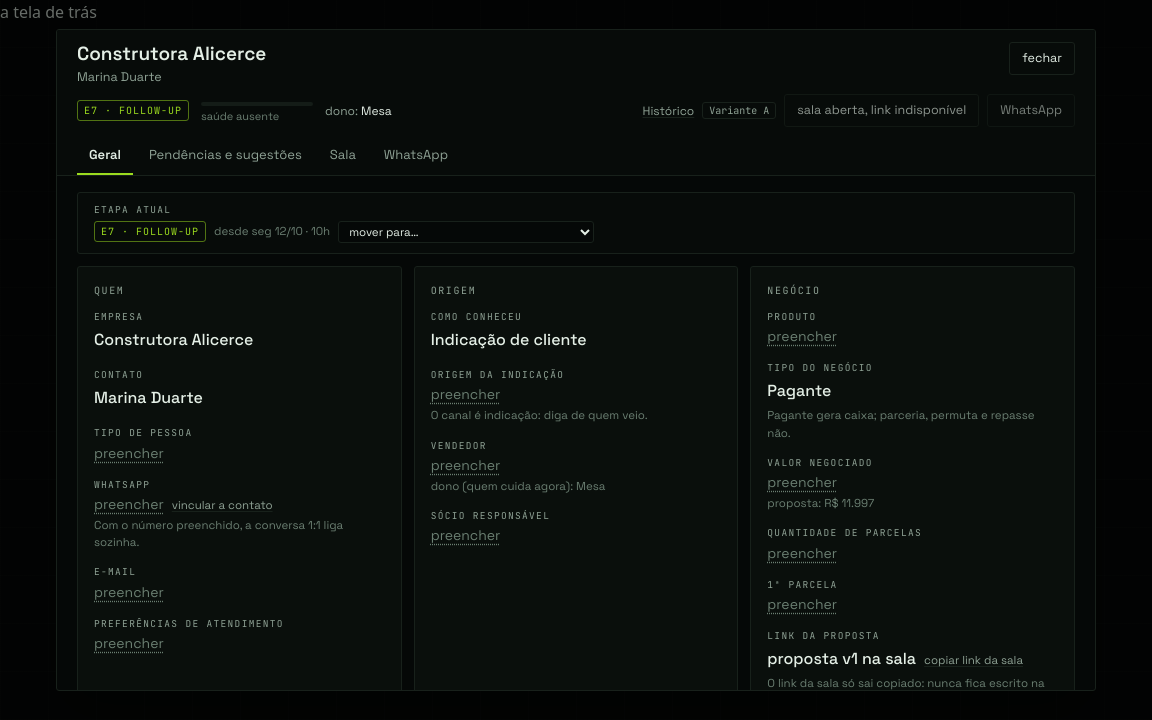
a aba Geral (variante A) › texto: "preencher" abre o campo, Enter salva pelo PATCH da ficha e o valor aparece na hora; Esc desfaz sem gravar
Click the button with test id "ficha-valor-preferenciasDeAtendimento".
click(129, 643)  # box x1=94 y1=633 x2=164 y2=654
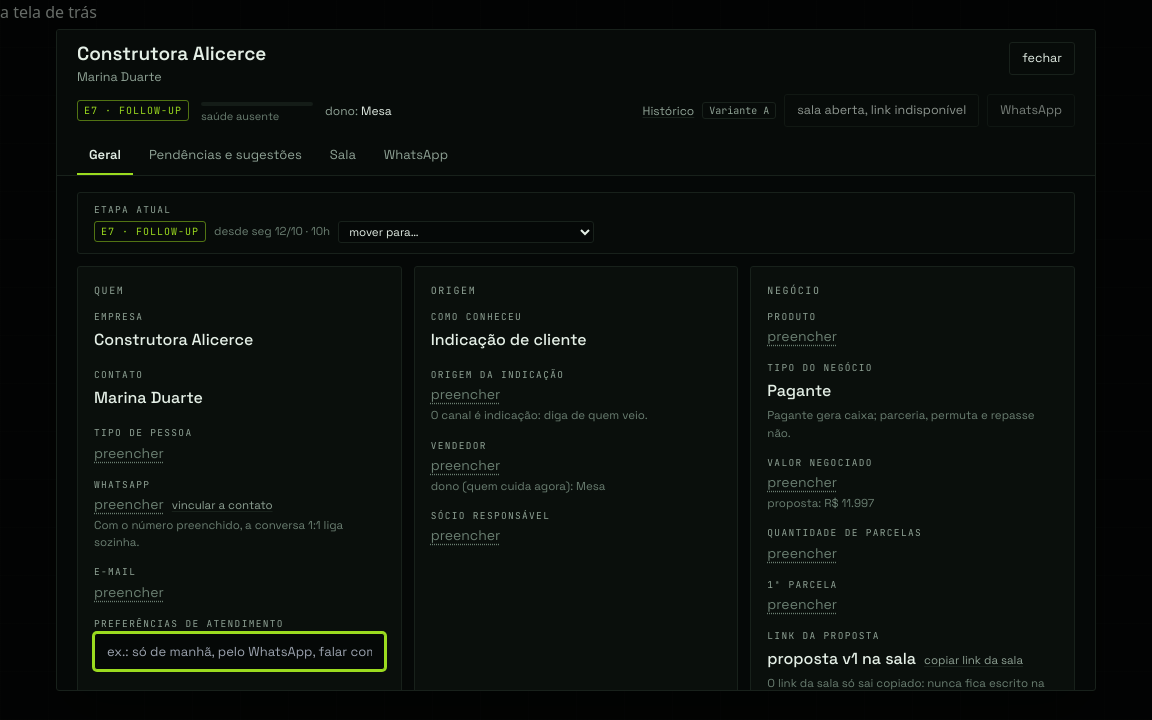
Type "só de manhã" into the field with test id "ficha-editor-preferenciasDeAtendimento".
click(239, 652); type("só de manhã")  # box x1=94 y1=633 x2=385 y2=670
Then press Enter
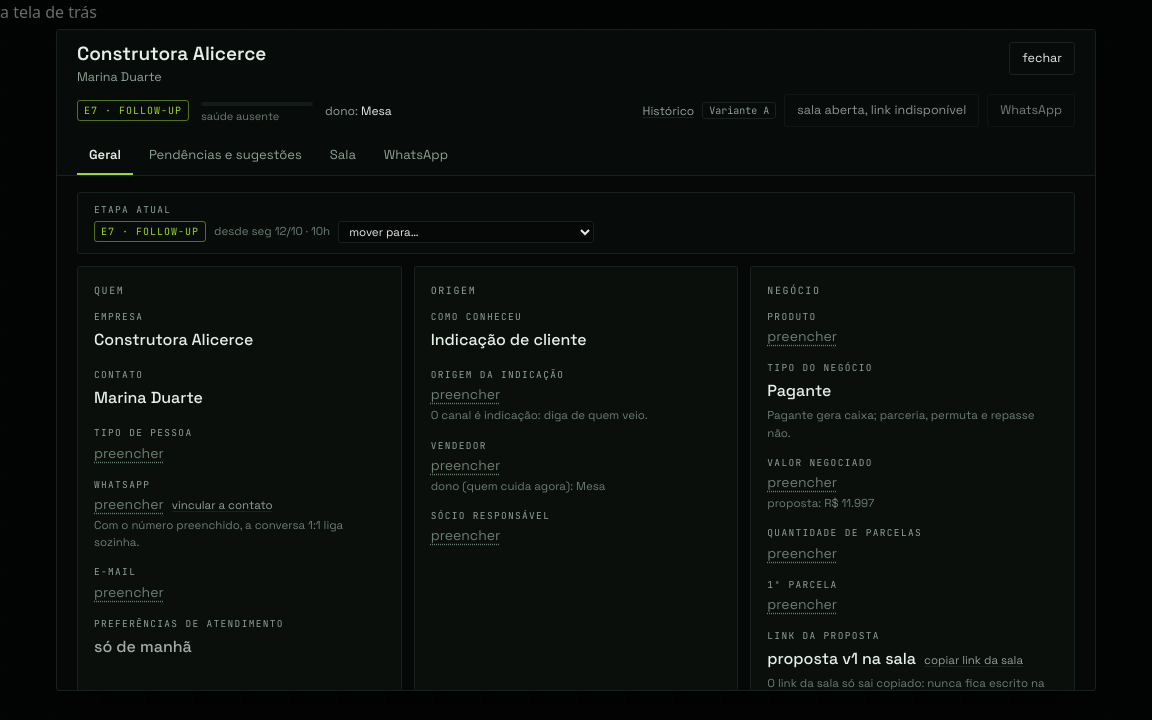
Result: the button with test id "ficha-valor-preferenciasDeAtendimento" reads "só de manhã" at x1=94 y1=633 x2=192 y2=661
Click the button with test id "ficha-valor-email".
click(129, 592)  # box x1=94 y1=582 x2=164 y2=602
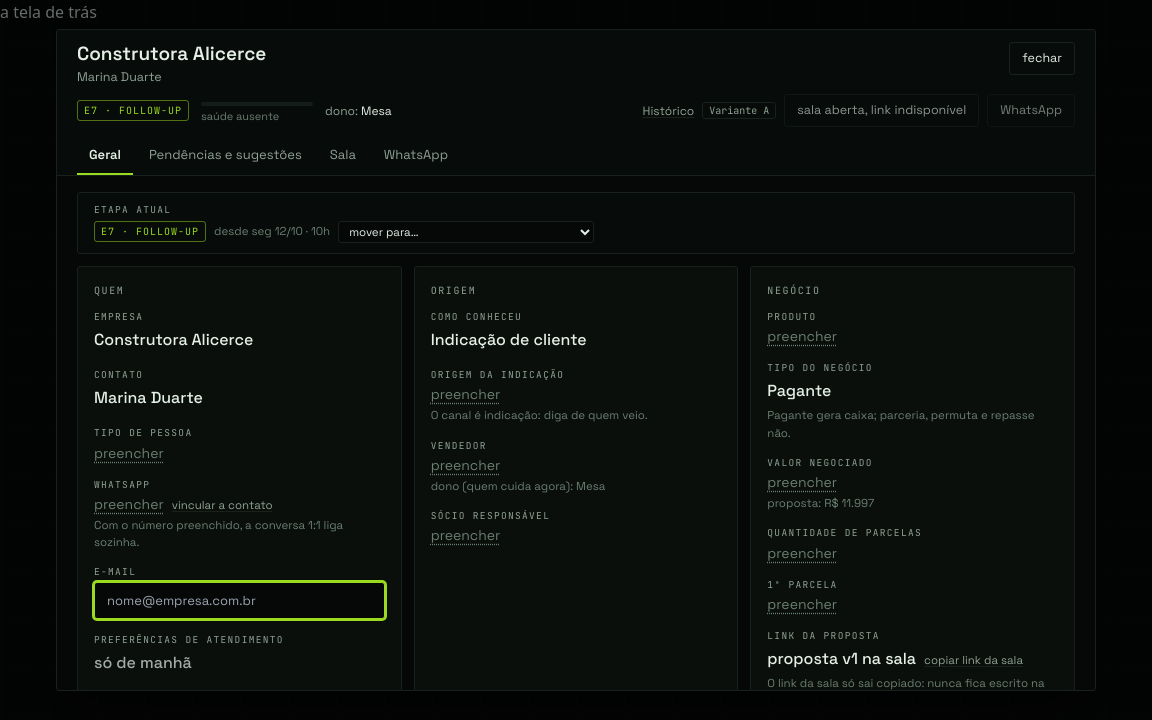
Type "x@y.co" into the field with test id "ficha-editor-email".
click(239, 600); type("x@y.co")  # box x1=94 y1=582 x2=385 y2=619
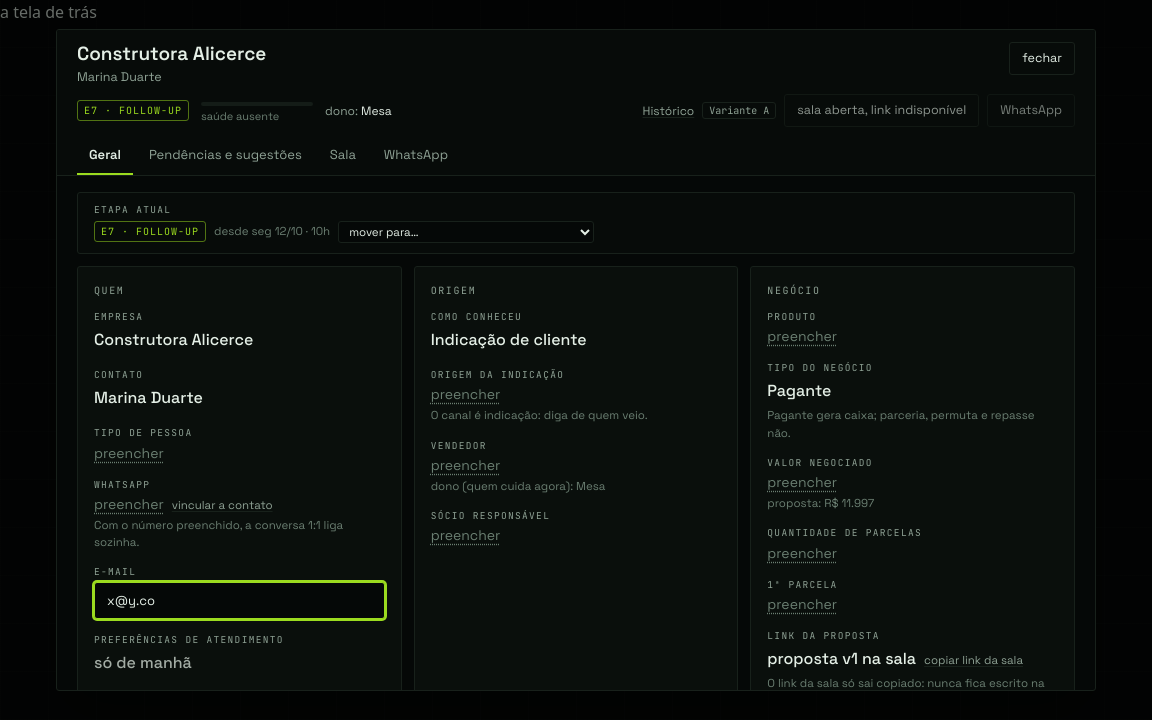
Press Escape
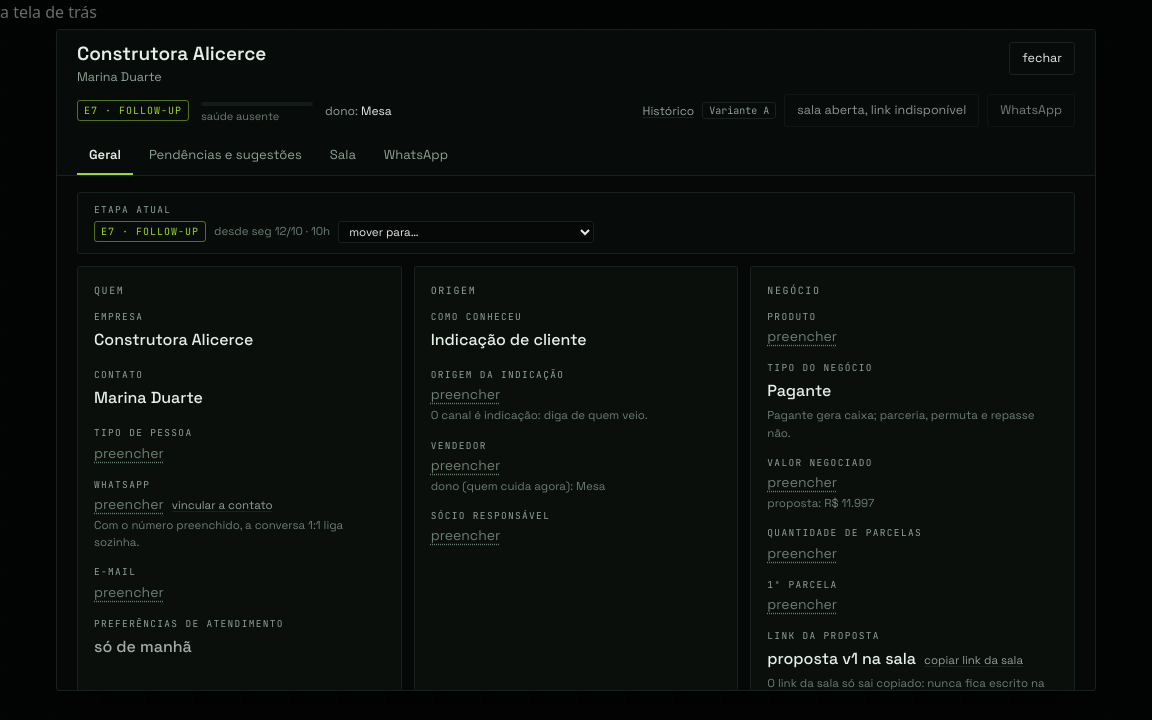
Result: the button with test id "ficha-valor-email" reads "preencher" at x1=94 y1=582 x2=164 y2=602
